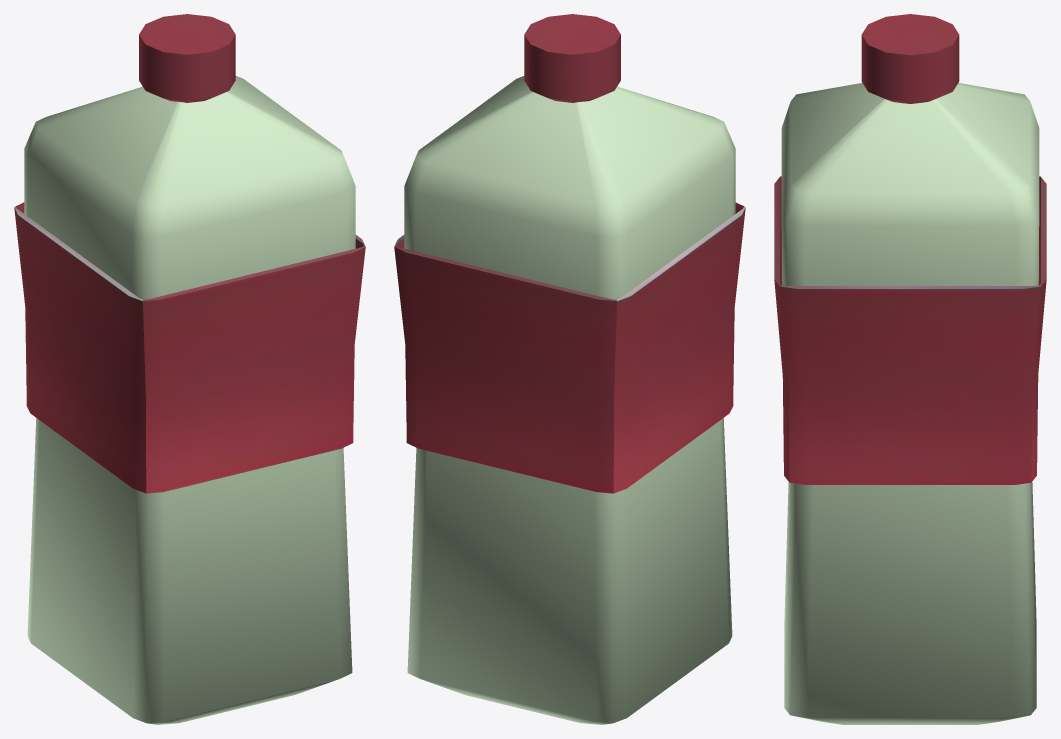
Rendered from SM_drink_water_03.fbx.
3 renders of one model, left to right at view 1: azimuth 30°, elevation 25°; view 2: azimuth 150°, elevation 25°; view 3: azimuth 270°, elevation 25°, orthographic.
Parts seen in each view (by area): view 1: Object32292; view 2: Object32292; view 3: Object32292.
Boxes of the visible parts, x1,y1,x2,y2 form: Object32292: [14, 14, 365, 724]; Object32292: [394, 14, 745, 724]; Object32292: [774, 14, 1046, 724].
Bounding box in the file's own units: 12.08 × 31.73 × 12.08.
